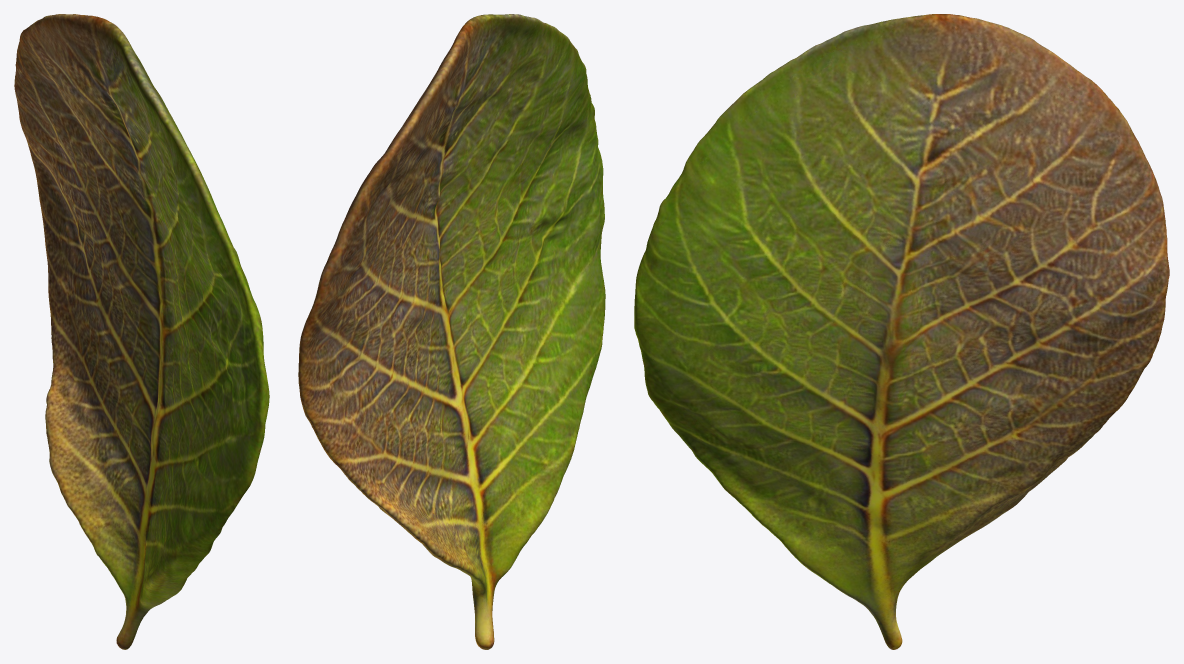
File: leaf.glb
3 views of the same model, side by side, from view 1: azimuth 30°, elevation 25°; view 2: azimuth 150°, elevation 25°; view 3: azimuth 270°, elevation 25° (orthographic). The views are drawn at different scales.
Visible parts, largest first — view 1: high_poly; view 2: high_poly; view 3: high_poly.
Boxes of the visible parts, bbox=[...] form: high_poly: bbox=[14, 14, 269, 649]; high_poly: bbox=[298, 14, 605, 649]; high_poly: bbox=[634, 14, 1169, 649].
Bounding box in the file's own units: 0.0384 × 0.2963 × 0.2267.
Materials: 1 (1 with a texture image).
